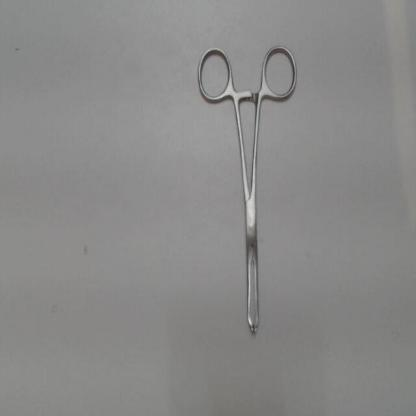Allis Tissue Forceps: (192, 39, 307, 348)
